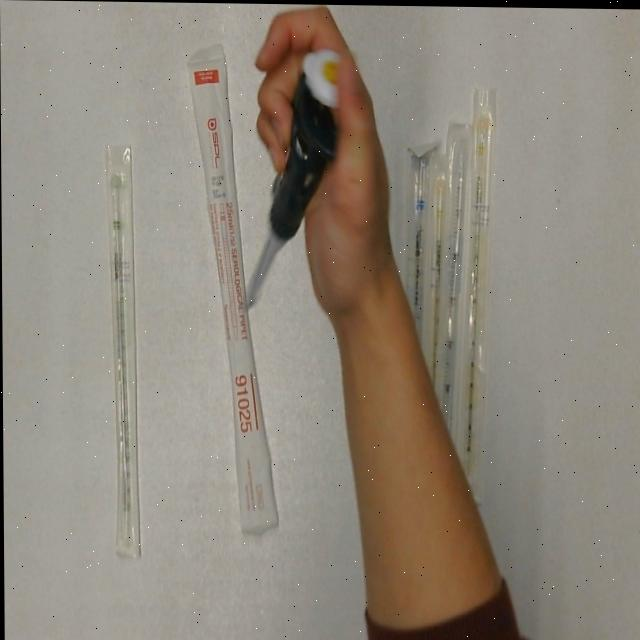Serelogical Pipet 1 mL: (449, 84, 506, 499), (418, 149, 457, 402)
Serelogical Pipet 2 mL: (107, 142, 143, 562)
Serelogical Pipet 25 mL: (182, 37, 282, 537)
Serelogical Pipet 5 mL: (421, 119, 479, 598), (390, 133, 439, 616)
Single Channel Pipettor: (239, 47, 354, 320)
